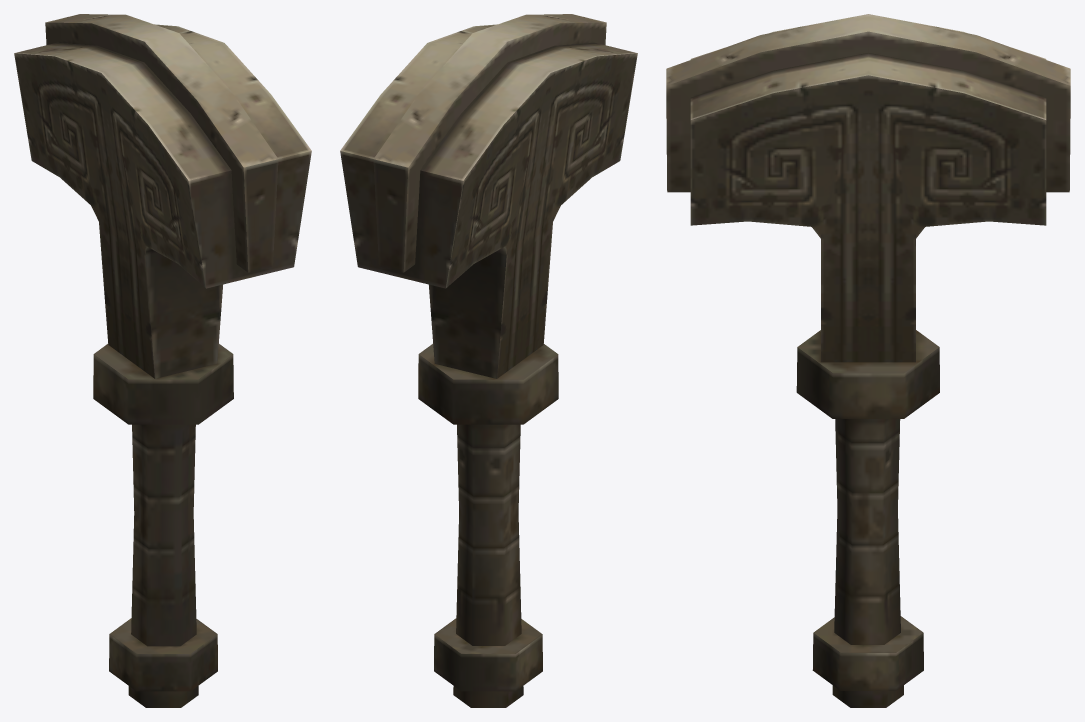
The model's file is hammer15_3d663f5f.glb.
The picture shows the model from 3 angles, left to right: view 1: azimuth 30°, elevation 25°; view 2: azimuth 150°, elevation 25°; view 3: azimuth 270°, elevation 25°; orthographic projection.
Bounding box in the file's own units: 0.224 × 1.14 × 0.6245.
Materials: 1 (1 with a texture image).
